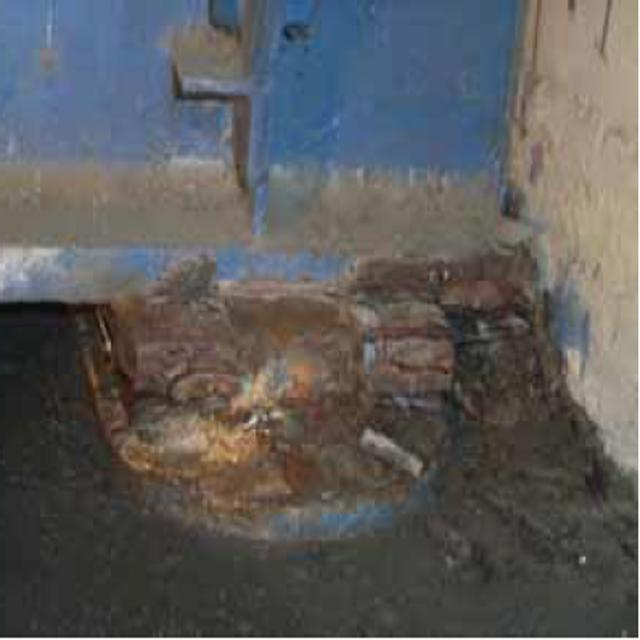corrosion: (84, 266, 560, 514)
